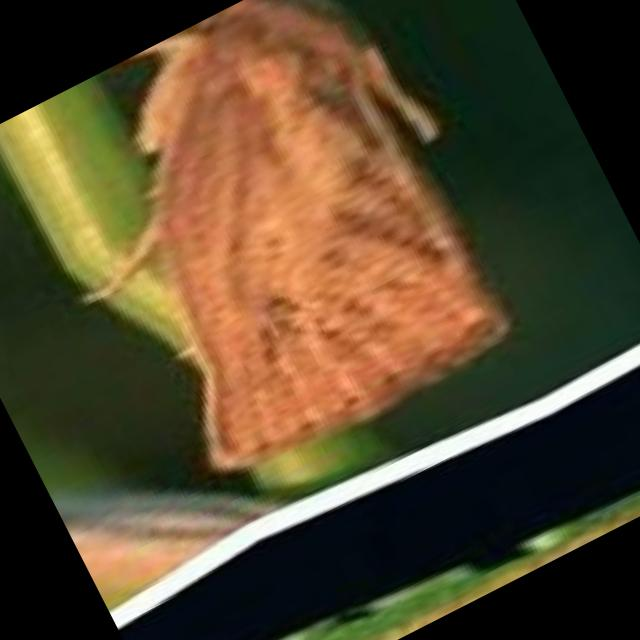stem-borer: (0, 0, 556, 520)
